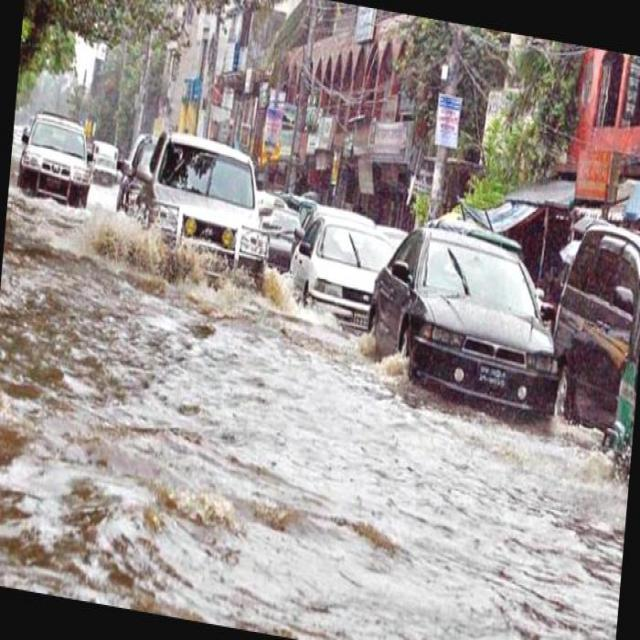flood: (0, 170, 639, 639)
